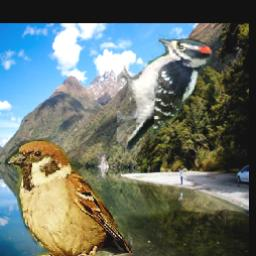Sparrow: (5, 139, 132, 256)
Woodpecker: (117, 34, 214, 153)
